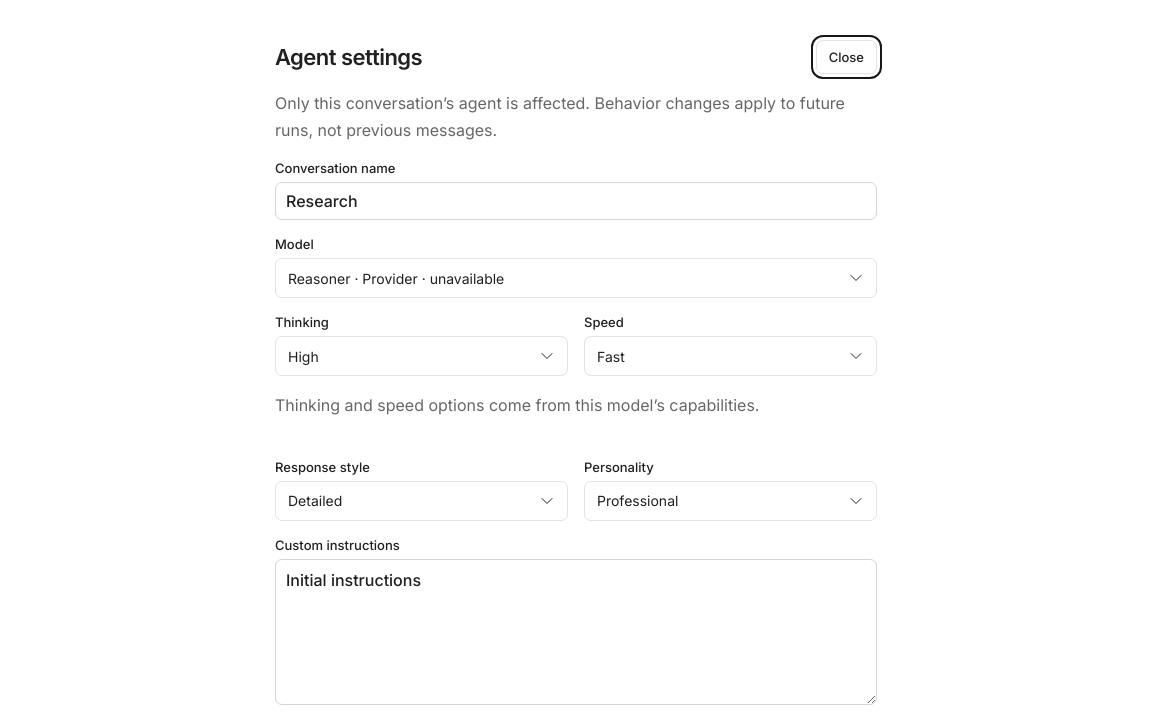
blocks behavior changes on an unavailable model until a valid model is selected
Check: the text box labelled "Custom instructions" is enabled, box [275, 559, 877, 705]
Replace the text in the field labelled "Conversation name" with "Renamed" at (576, 201), box [275, 182, 877, 220]
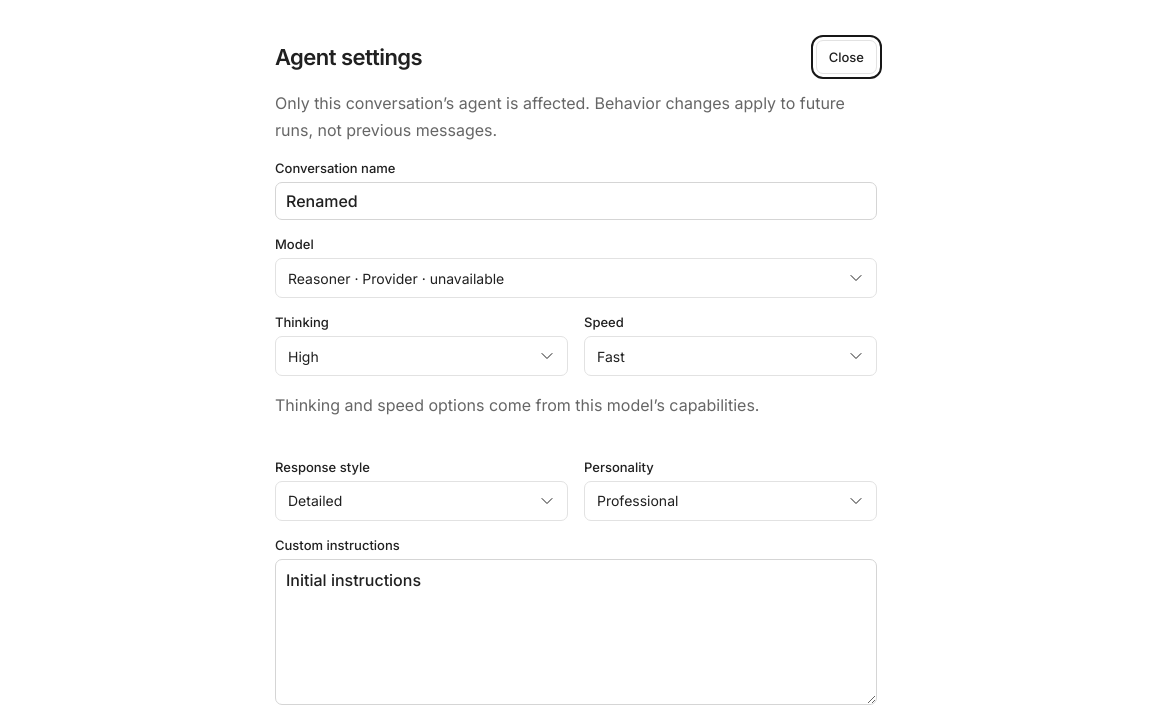
Replace the text in the text box labelled "Custom instructions" with "Changed guidance" at (576, 632), box [275, 559, 877, 705]
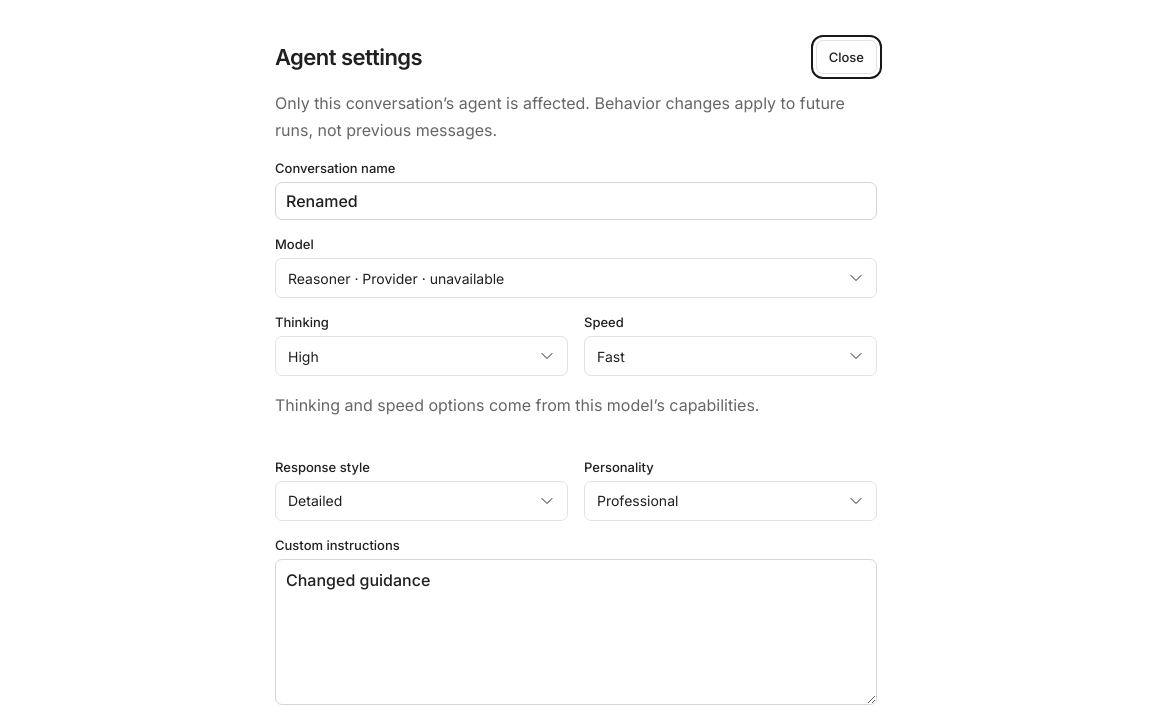
Click the dropdown named "Model" at (396, 278), box [275, 258, 877, 298]
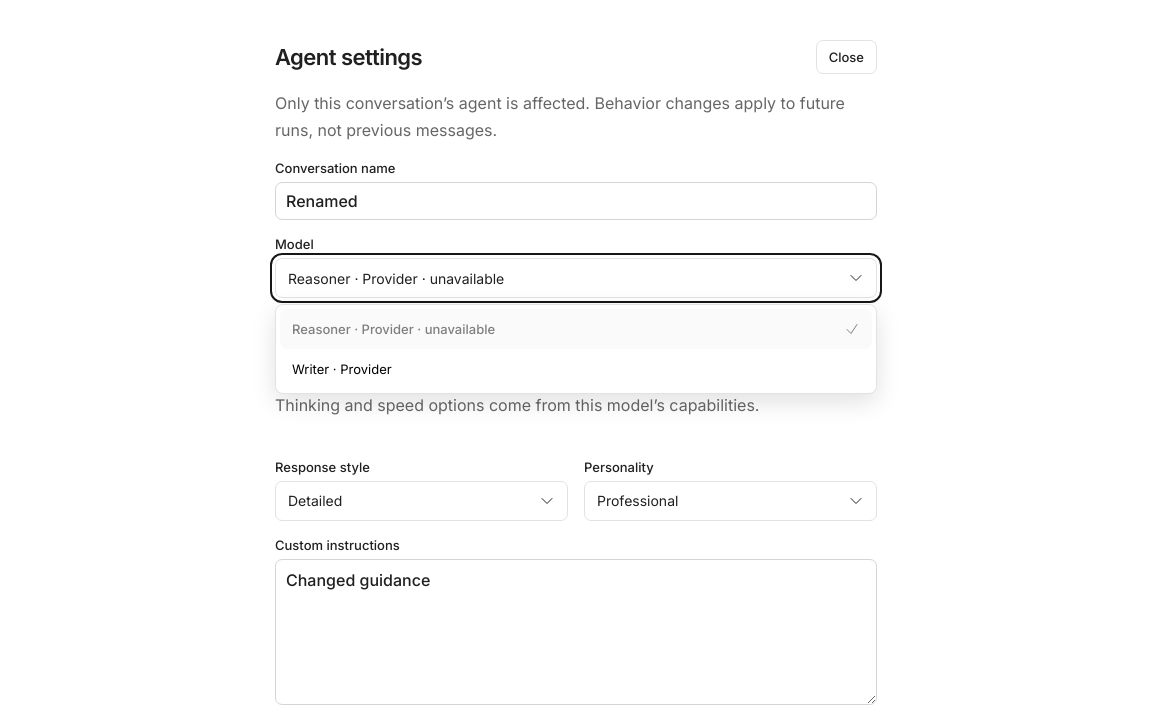
Click the option "Writer · Provider" at (342, 369), box [280, 349, 872, 389]
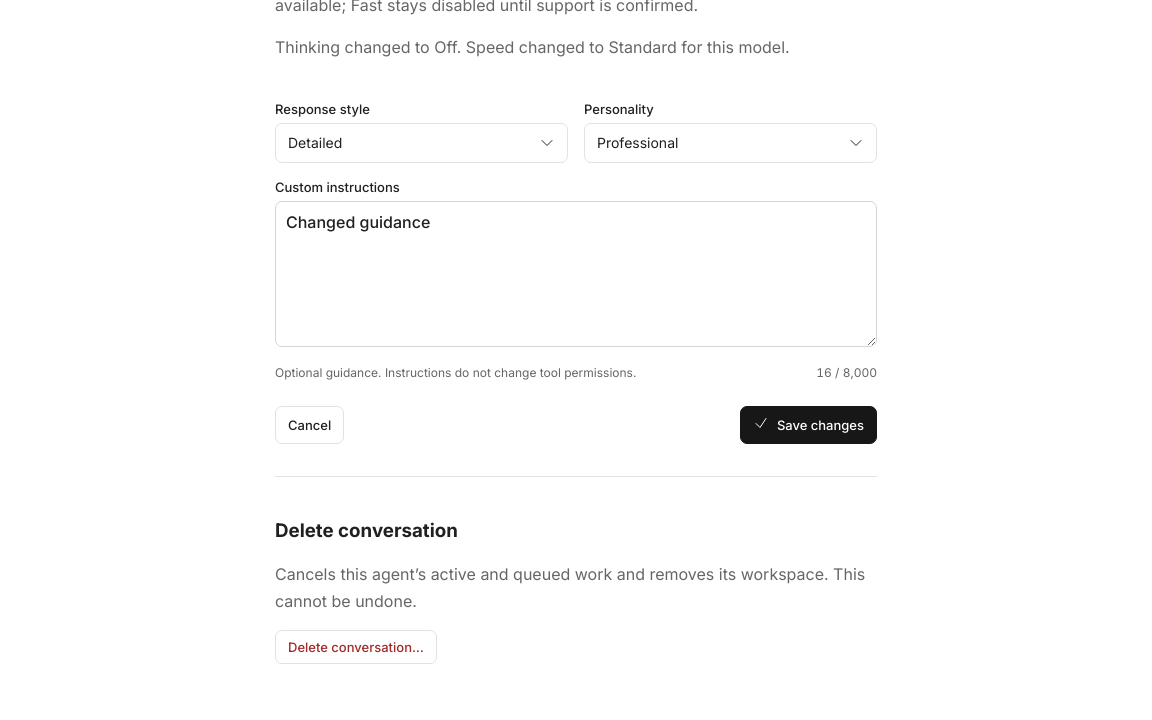
Check: the button "Save changes" is enabled, box [740, 406, 877, 444]
